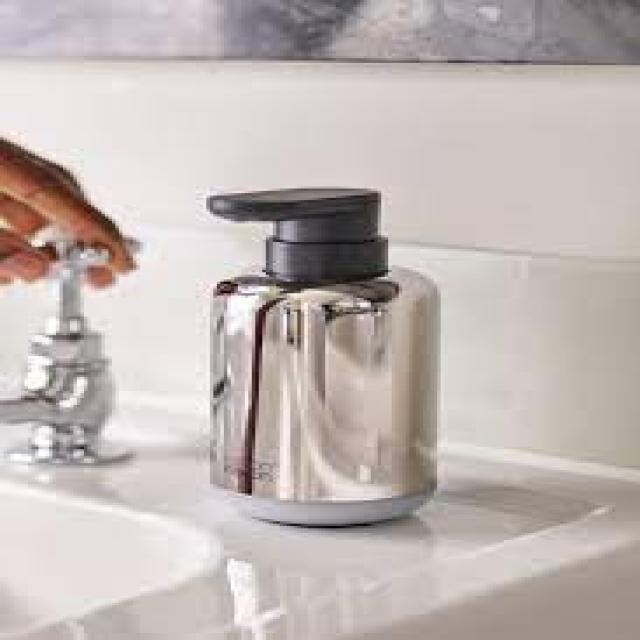liquid soap: (204, 181, 447, 527)
